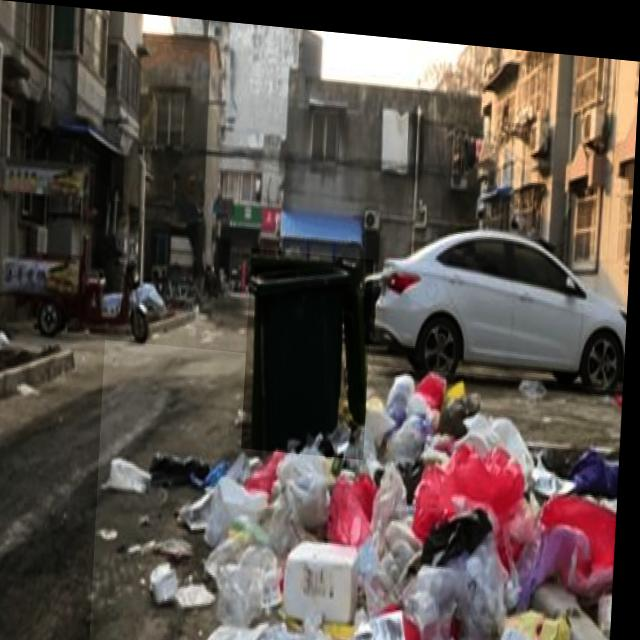garbage: (96, 337, 626, 640)
garbage_bin: (246, 243, 376, 452)
